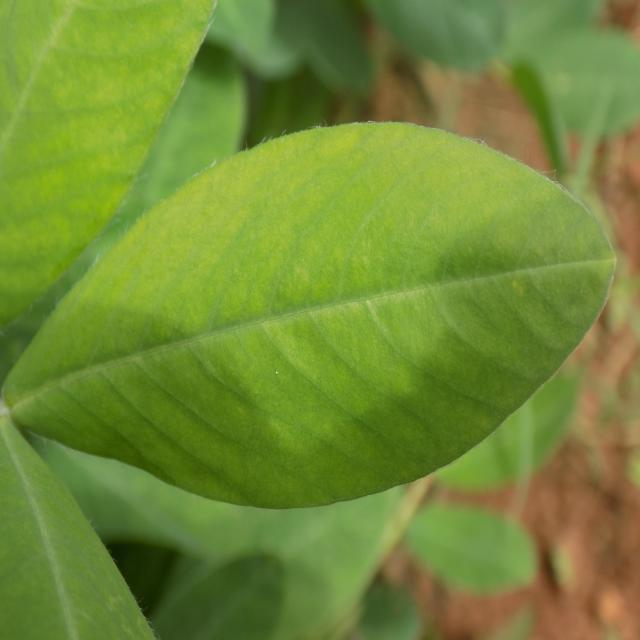Ground nut_healthy: (0, 123, 616, 508)
